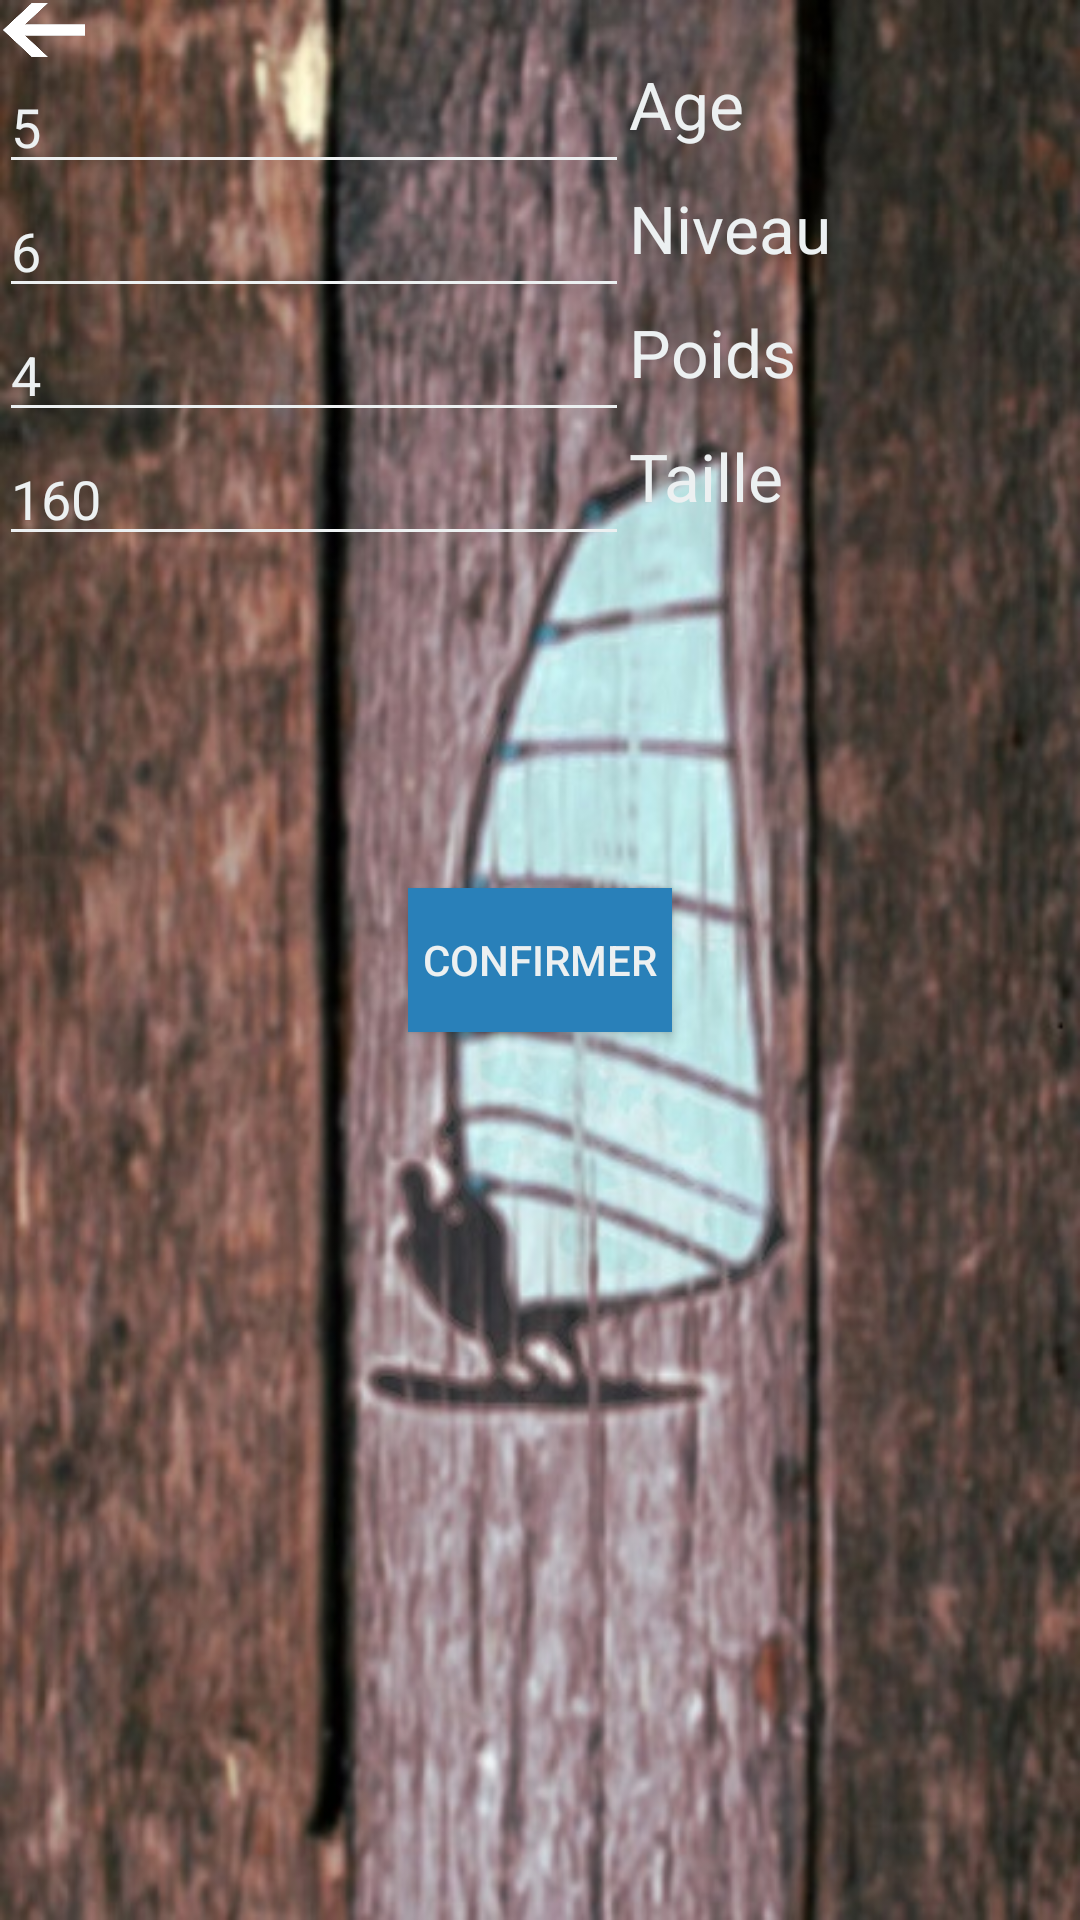

Screen size 1080x1920. Icon name, then its box in pixels as bbox=(x1, y1, x2, y2):
fleche: bbox=(0, 0, 89, 60)
